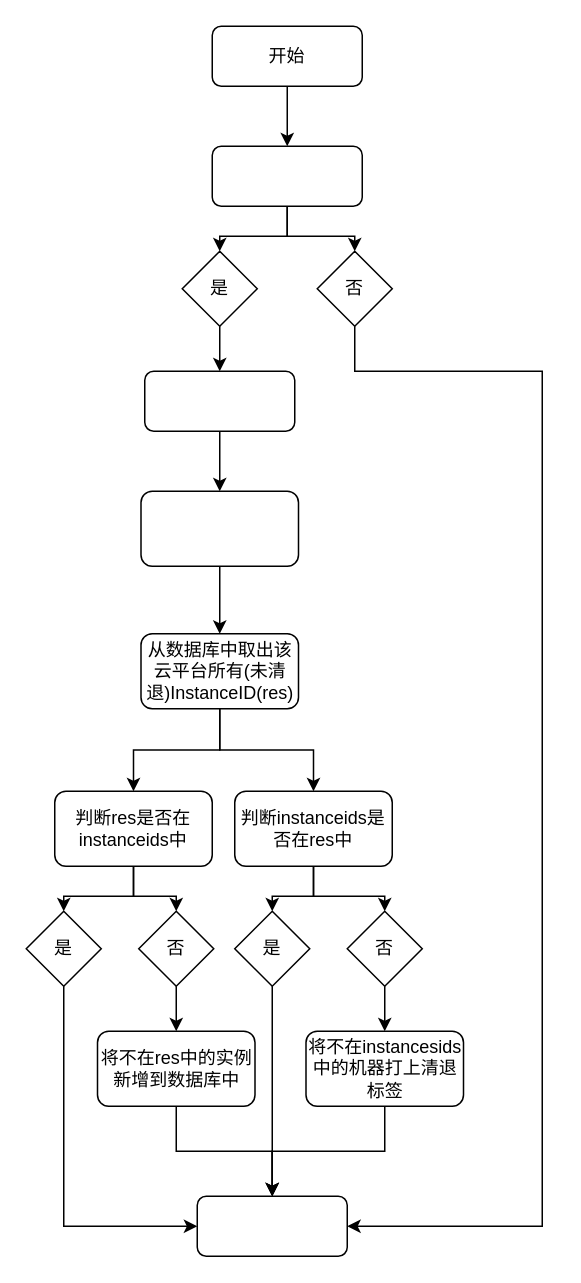
Image size: 581x1283. Some labels were removed from this diagram. The shapes that lost their labels are listed below. From the top down, each one's centre as x and y in pixels, then its label:
At point (286, 175): "判断所属地域 是否有机器".
At point (219, 400): "数据缓存落入Redis".
At point (219, 528): "从redis中取出所有key的InstanceID（instanceids）".
At point (271, 1225): "结束".
